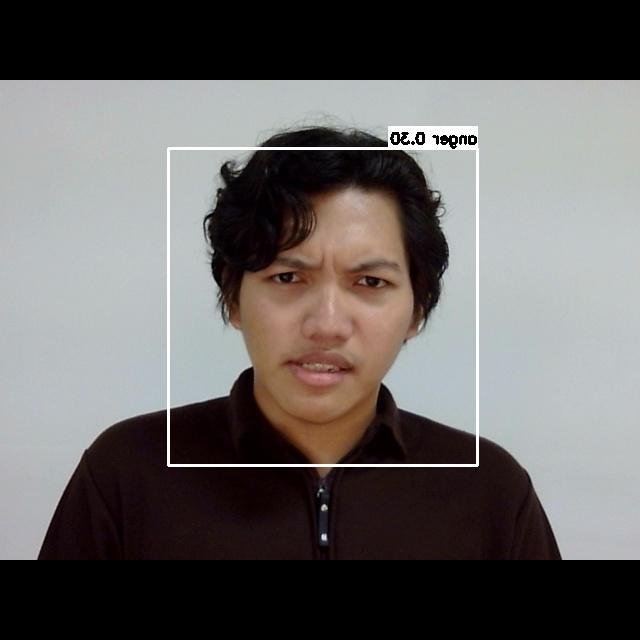Angry: (239, 221, 424, 404)
